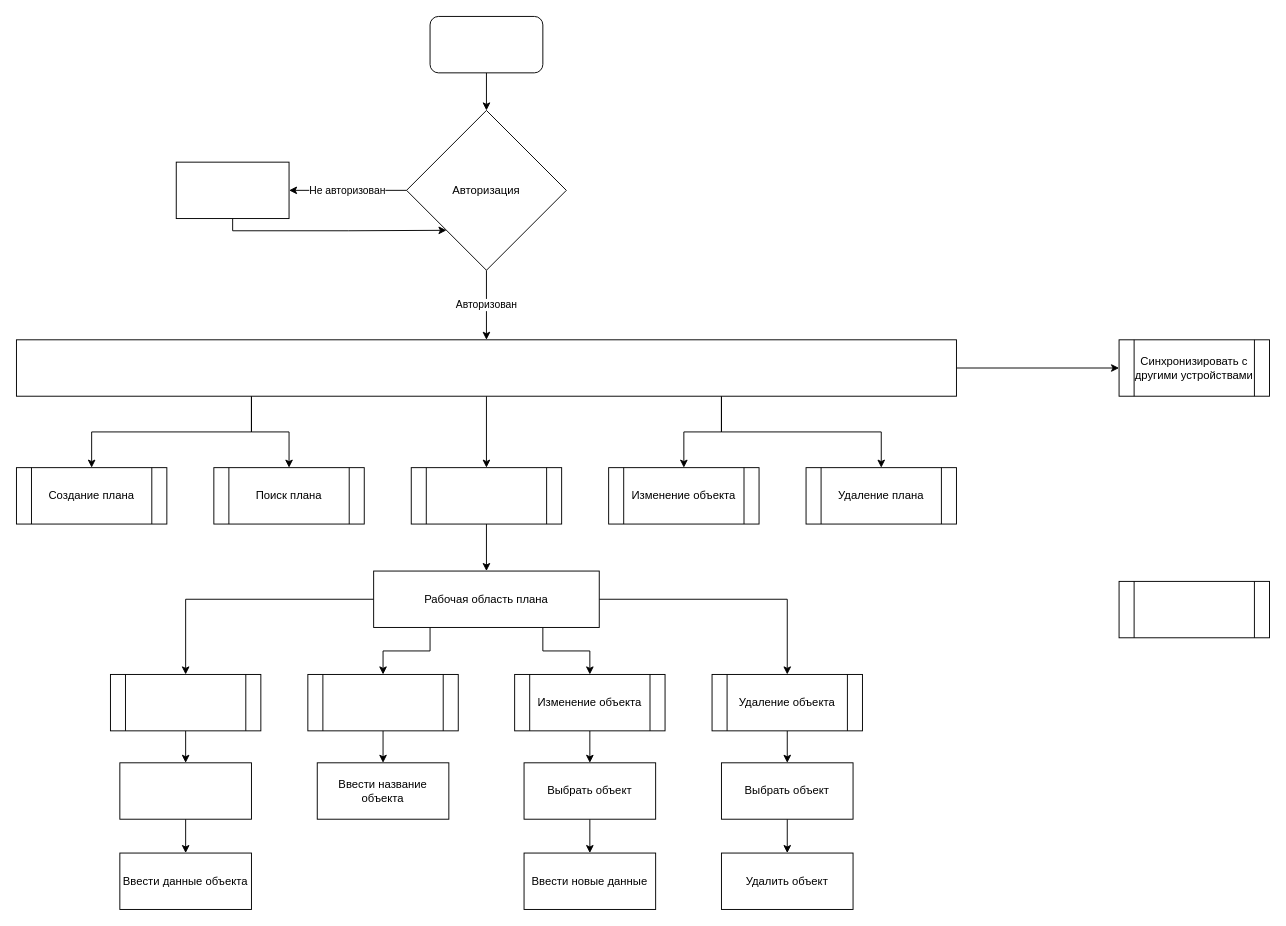
The diagram is 1286 pixels wide and 926 high, and some of its shapes have lost their labels. The shapes that lost their labels are listed below. From the top down, each one's box as (x1, y1, x2, y2) in pixels, then its label:
(429, 16, 543, 73): Запуск приложения
(175, 161, 289, 219): Вход/Регистрация
(16, 339, 956, 396): Список планов
(410, 467, 562, 524): Выбор плана
(1118, 580, 1269, 638): Создание мебели
(110, 674, 261, 731): Создание объекта
(307, 674, 458, 731): Поиск объекта
(119, 762, 251, 819): Выбрать место расположения
